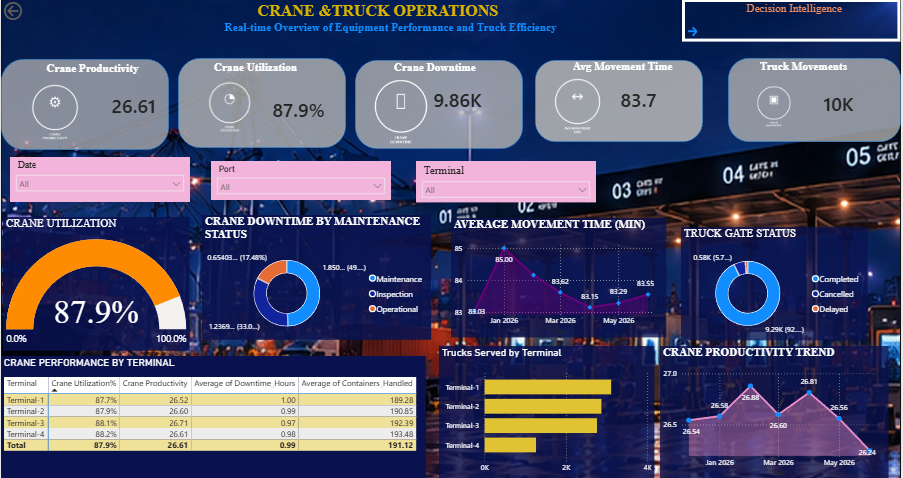

Layout of this report page (visuals, bound fields, positions):
{"tool":"powerbi","page":{"name":"Crane and Truck Operations","canvas":[1500,800],"ordinal":2},"visuals":[{"type":"textbox","box":[335.4,0,721.5,70.8],"z":0},{"type":"gauge","title":"CRANE UTILIZATION","fields":{"Y":["portpulse_db fact_crane_operation.Crane Utilization%"]},"box":[3.8,363.5,310.8,223.1],"z":1000},{"type":"donutChart","title":"CRANE DOWNTIME BY MAINTENANCE STATUS","fields":{"Category":["portpulse_db fact_crane_operation.Maintenance_Status"],"Y":["Avg(portpulse_db fact_crane_operation.Downtime_Hours)"]},"box":[335.6,359.3,381.5,207.7],"z":2000},{"type":"lineChart","title":"AVERAGE MOVEMENT TIME (MIN)","fields":{"Y":["Avg(portpulse_db fact_container_movement.Movement_Time_Min)"],"Category":["portpulse_db dim_date.Date.Variation.Date Hierarchy.Year","portpulse_db dim_date.Date.Variation.Date Hierarchy.Month"]},"box":[750,365.4,359.5,198.6],"z":3000},{"type":"donutChart","title":"TRUCK GATE STATUS","fields":{"Category":["portpulse_db fact_truck_movement.Gate_Status"],"Y":["CountNonNull(portpulse_db fact_truck_movement.Truck_Movement_ID)"]},"box":[1132.7,380.8,310.8,189.2],"z":4000},{"type":"clusteredBarChart","title":"Trucks Served by Terminal","fields":{"Category":["portpulse_db dim_port.Terminal"],"Y":["portpulse_db fact_truck_movement.Total Trucks Served"]},"box":[730.8,578.8,359.5,220.3],"z":5000},{"type":"pivotTable","title":"CRANE PERFORMANCE BY TERMINAL","fields":{"Rows":["portpulse_db dim_port.Terminal"],"Values":["portpulse_db fact_crane_operation.Crane Utilization%","portpulse_db fact_crane_operation.Crane Productivity","Avg(portpulse_db fact_crane_operation.Downtime_Hours)","Avg(portpulse_db fact_crane_operation.Containers_Handled)"]},"box":[0,594.2,708.1,205.4],"z":6000},{"type":"shape","box":[0,100,280,151.7],"z":7000},{"type":"shape","box":[295,98.3,280,150],"z":8000},{"type":"textbox","box":[63.3,100,190,38.3],"z":9000},{"type":"shape","box":[590,101.7,280,148.3],"z":10000},{"type":"shape","box":[890.5,101.6,279.4,150.8],"z":11000},{"type":"shape","box":[1211.1,98.4,288.9,150.8],"z":12000},{"type":"cardVisual","fields":{"Data":["portpulse_db fact_crane_operation.Crane Productivity"]},"box":[155,138.3,140,75],"z":13000},{"type":"textbox","box":[350,98.3,201.7,40],"z":14000},{"type":"lineChart","title":"CRANE PRODUCTIVITY TREND","fields":{"Y":["portpulse_db fact_crane_operation.Crane Productivity"],"Category":["portpulse_db dim_date.Date.Variation.Date Hierarchy.Year","portpulse_db dim_date.Date.Variation.Date Hierarchy.Month"]},"box":[1098.1,578.8,380.8,221.2],"z":15000},{"type":"textbox","title":"Avg Movement Time","box":[948.3,101.7,188.3,33.3],"z":16000},{"type":"textbox","box":[650,98.3,188.3,50],"z":17000},{"type":"textbox","title":"Truck Movements","box":[1260,101.7,205,36.7],"z":18000},{"type":"cardVisual","fields":{"Data":["portpulse_db fact_crane_operation.Crane Downtime"]},"box":[691.7,118.3,146.7,95],"z":19000},{"type":"cardVisual","fields":{"Data":["portpulse_db fact_crane_operation.Crane Utilization%"]},"box":[423.3,135,151.7,95],"z":20000},{"type":"cardVisual","fields":{"Data":["portpulse_db fact_container_movement.Avg Movement Time"]},"box":[1003.3,130,150,71.7],"z":21000},{"type":"cardVisual","fields":{"Data":["portpulse_db fact_truck_movement.Truck Movements"]},"box":[1341.7,106.7,158.3,131.7],"z":22000},{"type":"image","box":[1211.7,138.3,153.3,83.3],"z":23000},{"type":"image","box":[898.3,123.3,125,113.3],"z":24000},{"type":"image","box":[590,123.3,153.3,131.7],"z":25000},{"type":"image","box":[310,130,141.7,101.7],"z":26000},{"type":"image","box":[0,133.3,180,113.3],"z":27000},{"type":"actionButton","title":"Decision Intelligence","box":[1135.7,0,364.3,71.4],"z":28000},{"type":"actionButton","box":[0,0,100,40],"z":29000},{"type":"slicer","fields":{"Values":["portpulse_db dim_port.Port_Name"]},"box":[350,269.2,300,65.4],"z":30000},{"type":"slicer","fields":{"Values":["portpulse_db dim_port.Terminal"]},"box":[692.3,269.2,300,69.2],"z":31000},{"type":"slicer","fields":{"Values":["portpulse_db dim_date.Date_Time"]},"box":[15.4,263.1,300,75.4],"z":32000}]}

Visuals, with their boxes in screenshot pixels (x1, y1, x2, y2), scaled from the page's 1500x800 canvas onto the 903x478 screenshot:
textbox: region(202, 0, 636, 42)
"CRANE UTILIZATION" gauge: region(2, 217, 189, 350)
"CRANE DOWNTIME BY MAINTENANCE STATUS" donutChart: region(202, 215, 432, 339)
"AVERAGE MOVEMENT TIME (MIN)" lineChart: region(452, 218, 668, 337)
"TRUCK GATE STATUS" donutChart: region(682, 228, 869, 341)
"Trucks Served by Terminal" clusteredBarChart: region(440, 346, 656, 477)
"CRANE PERFORMANCE BY TERMINAL" pivotTable: region(0, 355, 426, 477)
shape: region(0, 60, 169, 150)
shape: region(178, 59, 346, 148)
textbox: region(38, 60, 152, 83)
shape: region(355, 61, 524, 149)
shape: region(536, 61, 704, 151)
shape: region(729, 59, 902, 149)
cardVisual - portpulse_db fact_crane_operation.Crane Productivity: region(93, 83, 178, 127)
textbox: region(211, 59, 332, 83)
"CRANE PRODUCTIVITY TREND" lineChart: region(661, 346, 890, 477)
"Avg Movement Time" textbox: region(571, 61, 684, 81)
textbox: region(391, 59, 505, 89)
"Truck Movements" textbox: region(759, 61, 882, 83)
cardVisual - portpulse_db fact_crane_operation.Crane Downtime: region(416, 71, 505, 127)
cardVisual - portpulse_db fact_crane_operation.Crane Utilization%: region(255, 81, 346, 137)
cardVisual - portpulse_db fact_container_movement.Avg Movement Time: region(604, 78, 694, 121)
cardVisual - portpulse_db fact_truck_movement.Truck Movements: region(808, 64, 902, 142)
image: region(729, 83, 822, 132)
image: region(541, 74, 616, 141)
image: region(355, 74, 447, 152)
image: region(187, 78, 272, 138)
image: region(0, 80, 108, 147)
"Decision Intelligence" actionButton: region(684, 0, 902, 43)
actionButton: region(0, 0, 60, 24)
slicer - portpulse_db dim_port.Port_Name: region(211, 161, 391, 200)
slicer - portpulse_db dim_port.Terminal: region(417, 161, 597, 202)
slicer - portpulse_db dim_date.Date_Time: region(9, 157, 190, 202)
